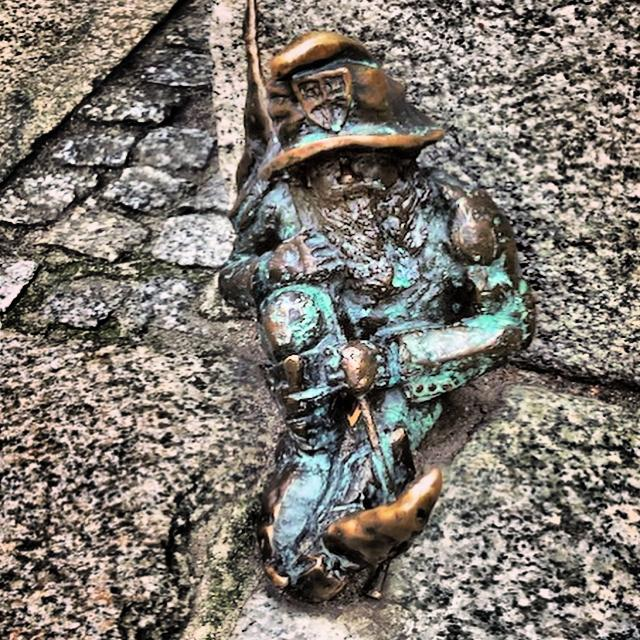Spioch: (219, 0, 534, 602)
